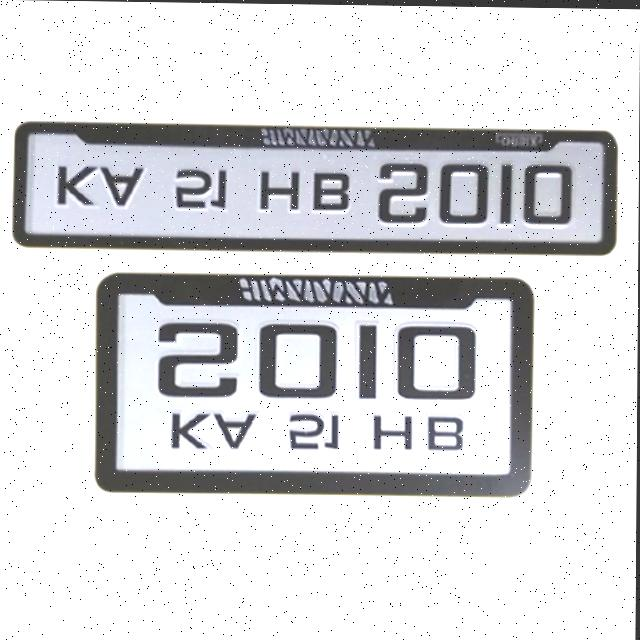plate: (96, 271, 536, 498), (12, 121, 617, 258)
